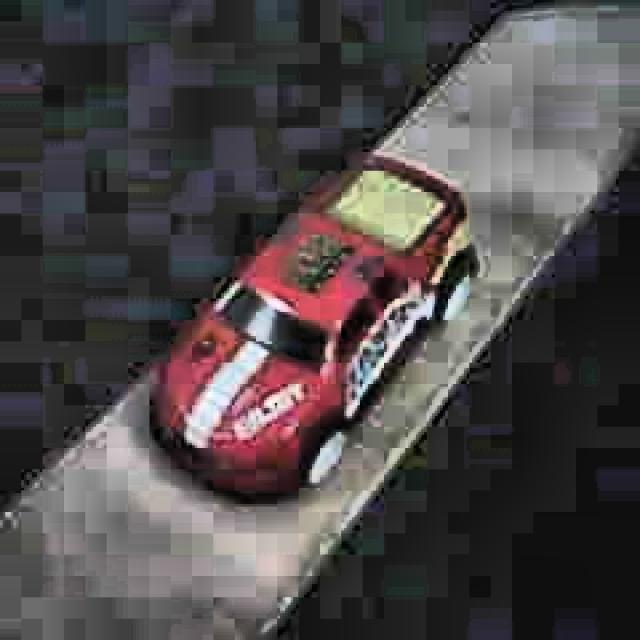car: (144, 152, 481, 509)
